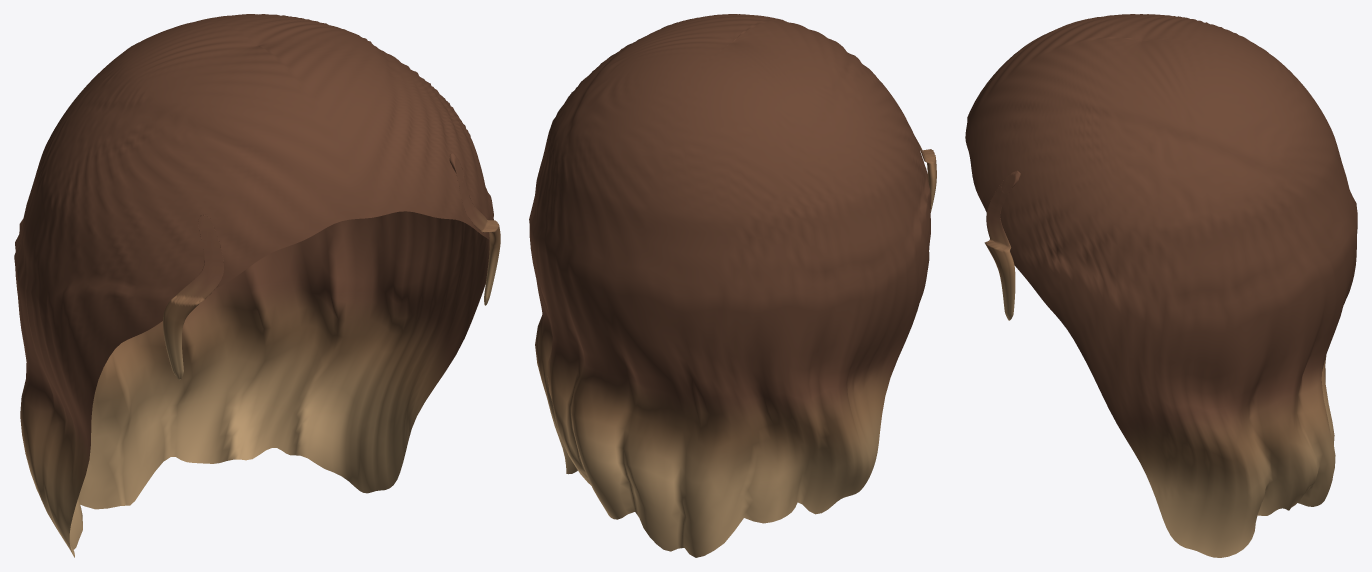
File: space-buns-beanie-ombre.glb
3 views of the same model, side by side, from view 1: azimuth 30°, elevation 25°; view 2: azimuth 150°, elevation 25°; view 3: azimuth 270°, elevation 25° (orthographic). The views are drawn at different scales.
Visible parts, largest first — view 1: 226 hair / Hair / chestnut226.002; view 2: 226 hair / Hair / chestnut226.002; view 3: 226 hair / Hair / chestnut226.002.
Boxes of the visible parts, left/top/right/bottom form: 226 hair / Hair / chestnut226.002: left=14, top=14, right=500, bottom=557; 226 hair / Hair / chestnut226.002: left=529, top=14, right=936, bottom=557; 226 hair / Hair / chestnut226.002: left=965, top=14, right=1357, bottom=557.
Size of the model in its own units: 0.8048 by 0.965 by 0.7316.
1 material, 1 textured.
